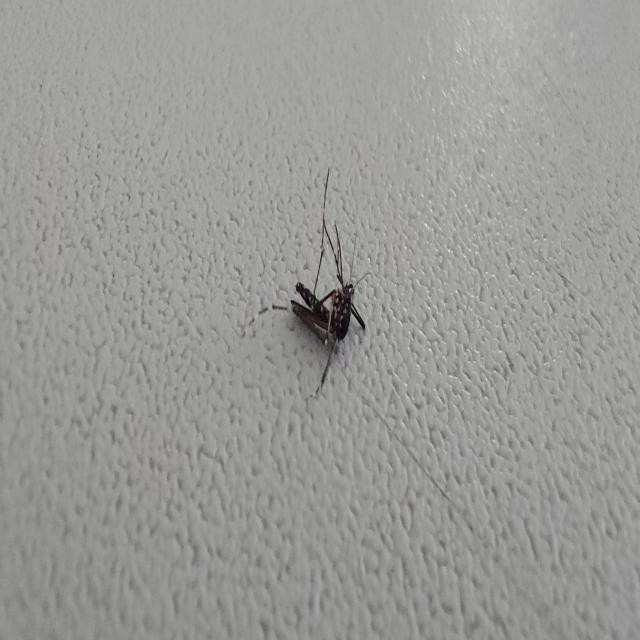albopictus: (280, 162, 372, 403)
